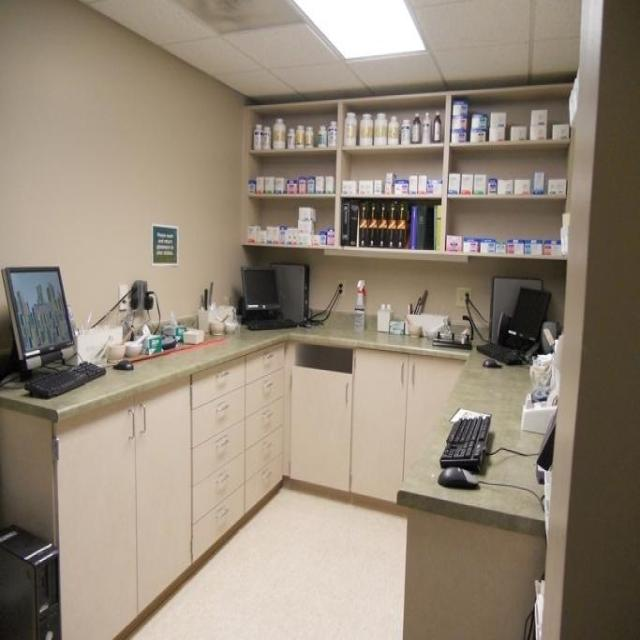E-waste: (0, 234, 108, 400), (424, 398, 506, 527), (231, 253, 324, 342), (450, 271, 548, 352)
Medical Waste: (236, 97, 568, 238)
